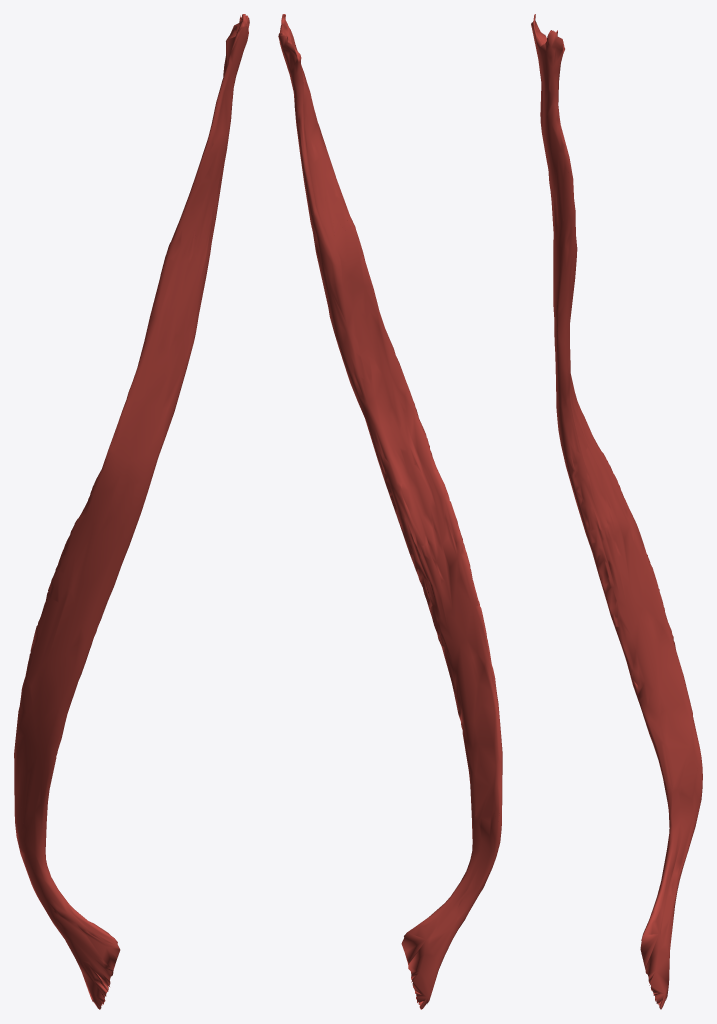
Rendered from musculos-sartorius-muscle-l.glb.
3 views of the same model, side by side, from view 1: azimuth 30°, elevation 25°; view 2: azimuth 210°, elevation 25°; view 3: azimuth 270°, elevation 25° (orthographic). The views are drawn at different scales.
Parts seen in each view (by area): view 1: Sartorius muscle.l; view 2: Sartorius muscle.l; view 3: Sartorius muscle.l.
Part boxes in pixels (left/top/right/bottom): Sartorius muscle.l: left=14, top=14, right=249, bottom=1009; Sartorius muscle.l: left=278, top=14, right=502, bottom=1009; Sartorius muscle.l: left=531, top=14, right=702, bottom=1009.
Bounding box in the file's own units: 0.1032 × 0.5992 × 0.0901.
